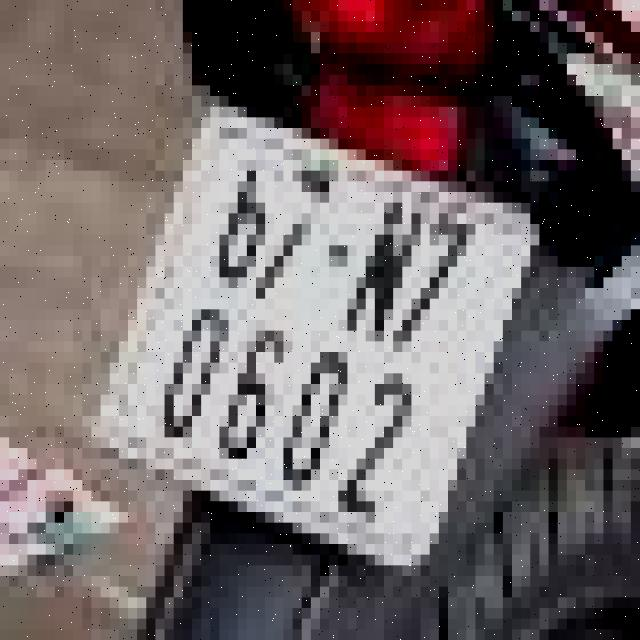0: (137, 298, 248, 463), (262, 336, 358, 511)
2: (324, 356, 422, 540)
6: (206, 300, 304, 488), (213, 133, 295, 299)
7: (380, 196, 478, 374), (247, 162, 357, 315)
N: (336, 178, 441, 357)
